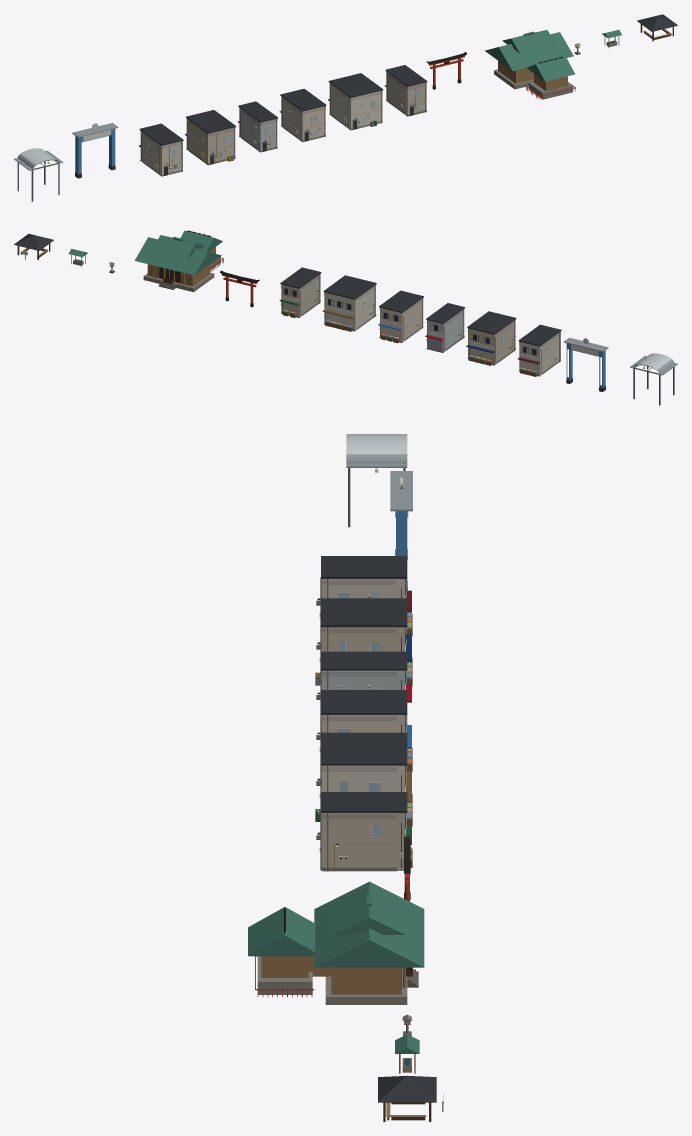
The model's file is hibari.glb.
The picture shows the model from 3 angles, top to bottom: view 1: azimuth 30°, elevation 25°; view 2: azimuth 150°, elevation 25°; view 3: azimuth 270°, elevation 25°; orthographic projection. The views are drawn at different scales.
Parts seen in each view (by area): view 1: hibari_haiden_body, hibari_shop_e_body, hibari_shop_b_body, hibari_shop_d_body, hibari_shop_a_body, hibari_shop_f_body, hibari_shop_c_body, hibari_gate_body, hibari_bay_body, hibari_azumaya_body, hibari_torii_body; view 2: hibari_haiden_body, hibari_shop_e_body, hibari_shop_b_body, hibari_shop_d_body, hibari_shop_a_body, hibari_shop_f_body, hibari_shop_c_body, hibari_gate_body, hibari_bay_body, hibari_azumaya_body, hibari_torii_body; view 3: hibari_haiden_body, hibari_shop_f_body, hibari_shop_e_body, hibari_shop_b_body, hibari_shop_d_body, hibari_shop_a_body, hibari_shop_c_body, hibari_bay_body, hibari_azumaya_body, hibari_gate_body.
Boxes of the visible parts, x1,y1,x2,y2 form: hibari_haiden_body: (485, 30, 575, 99); hibari_shop_e_body: (328, 73, 383, 130); hibari_shop_b_body: (185, 110, 235, 165); hibari_shop_d_body: (279, 88, 326, 142); hibari_shop_a_body: (139, 123, 183, 176); hibari_shop_f_body: (384, 65, 427, 116); hibari_shop_c_body: (237, 101, 277, 152); hibari_gate_body: (72, 123, 118, 178); hibari_bay_body: (14, 148, 63, 201); hibari_azumaya_body: (637, 14, 677, 41); hibari_torii_body: (426, 52, 466, 89); hibari_haiden_body: (134, 230, 223, 292); hibari_shop_e_body: (322, 275, 376, 331); hibari_shop_b_body: (466, 311, 516, 365); hibari_shop_d_body: (378, 290, 423, 343); hibari_shop_a_body: (518, 324, 561, 376); hibari_shop_f_body: (279, 267, 321, 317); hibari_shop_c_body: (425, 303, 464, 352); hibari_gate_body: (563, 337, 608, 391); hibari_bay_body: (630, 353, 677, 405); hibari_azumaya_body: (14, 233, 53, 259); hibari_torii_body: (220, 270, 259, 307); hibari_haiden_body: (248, 881, 424, 1004); hibari_shop_f_body: (315, 792, 412, 871); hibari_shop_e_body: (315, 732, 412, 826); hibari_shop_b_body: (315, 598, 412, 686); hibari_shop_d_body: (316, 690, 412, 772); hibari_shop_a_body: (316, 556, 412, 636); hibari_shop_c_body: (316, 651, 411, 724); hibari_bay_body: (346, 434, 407, 527); hibari_azumaya_body: (378, 1075, 443, 1121); hibari_gate_body: (390, 471, 412, 590).
Size of the model in its own units: 156 by 11.25 by 20.66.
